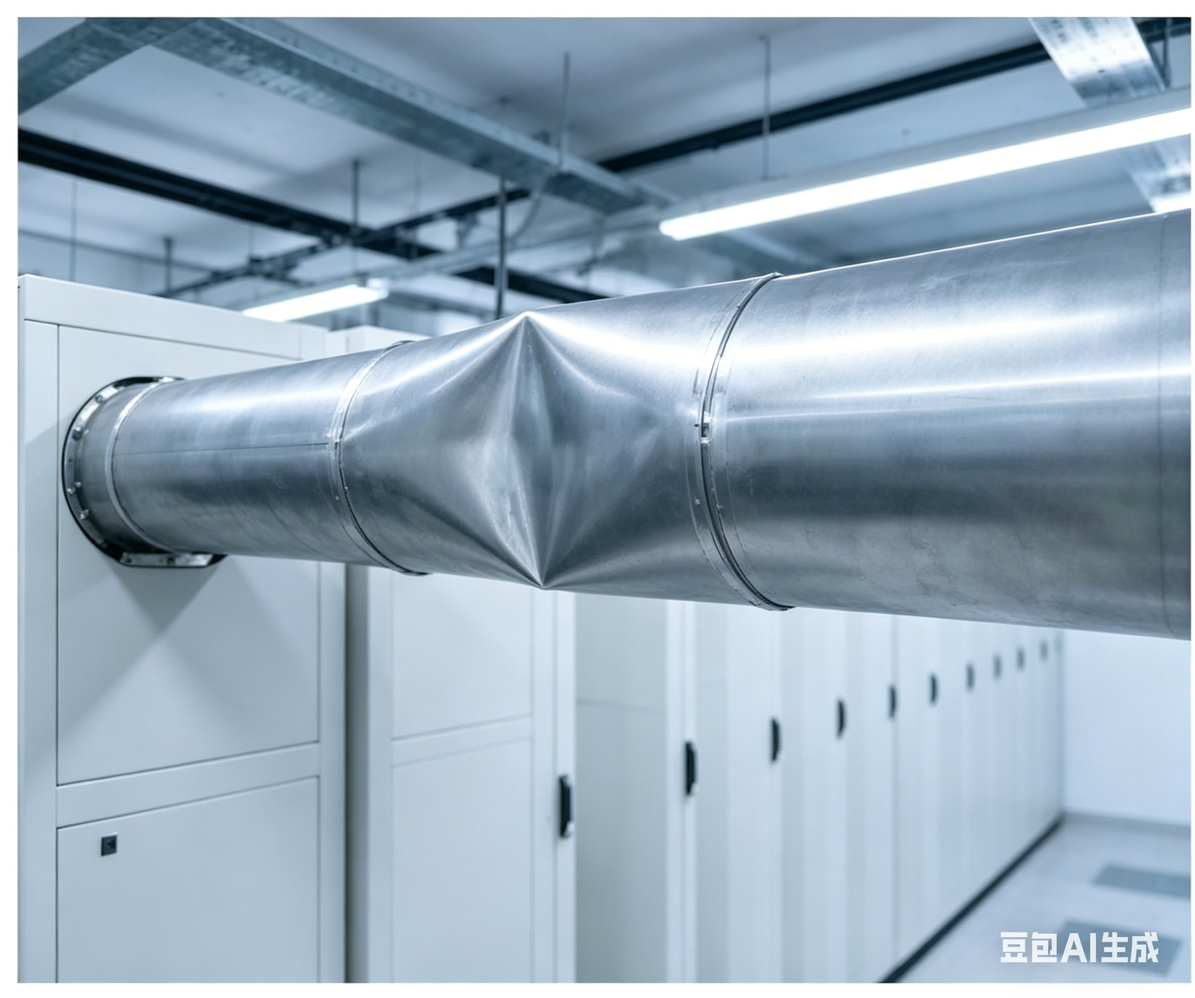Leakage: (440, 312, 661, 598)
